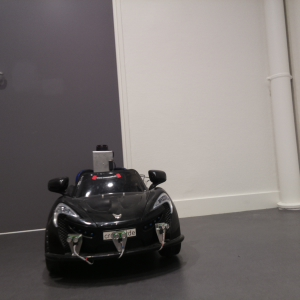big: (45, 167, 186, 277)
